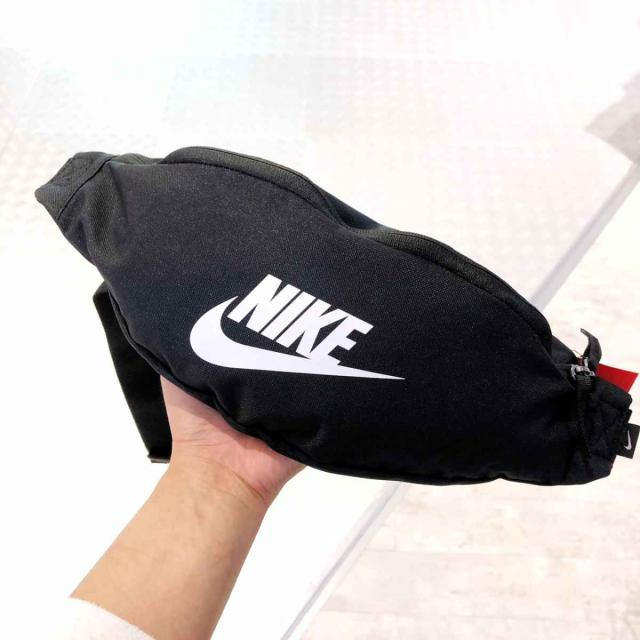handbag: (31, 145, 640, 498)
